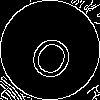O: (25, 25, 82, 84)
